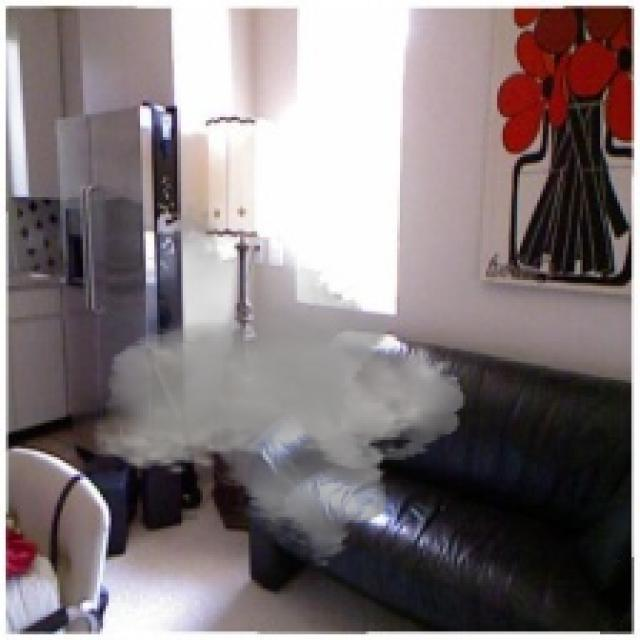Smoke: (91, 202, 466, 568)
